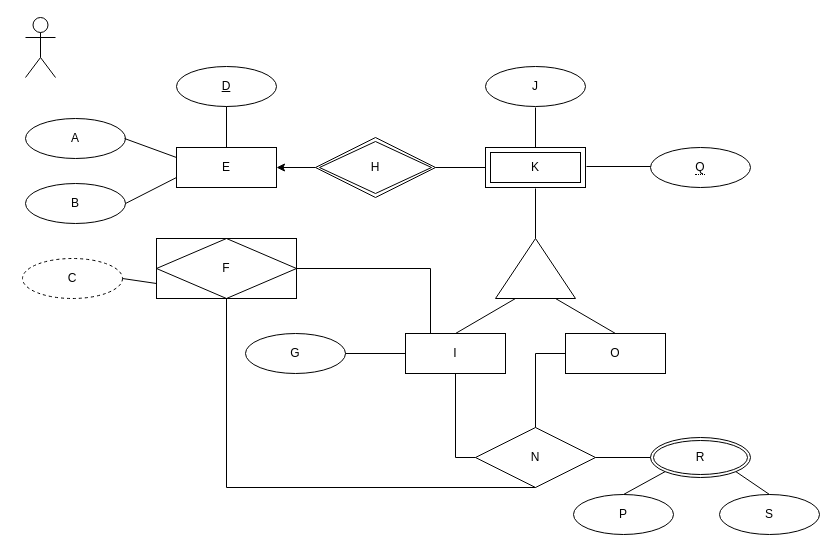
This 837x552 diagram has some shape labels left out. The shapes that lost their labels are listed below. From the top down, each one's box as (x1, y1, x2, y2) in pixels, then its label:
(24, 16, 56, 78): as14128
(494, 238, 576, 298): L, M
